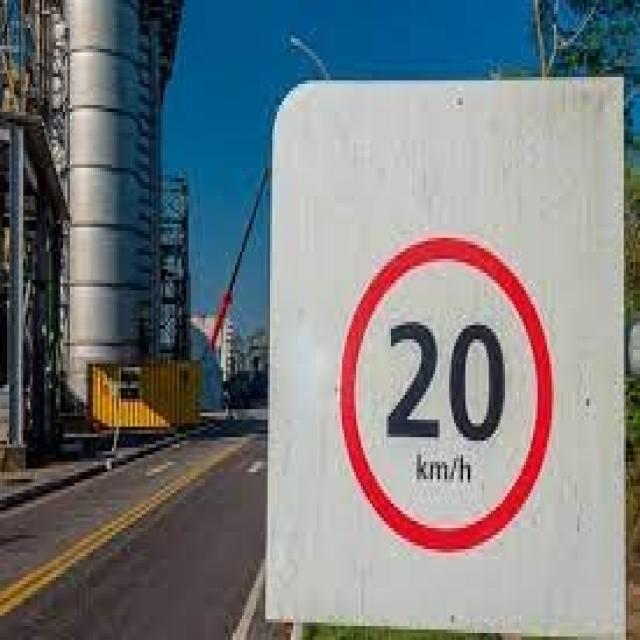speed_limit_20: (342, 234, 556, 556)
